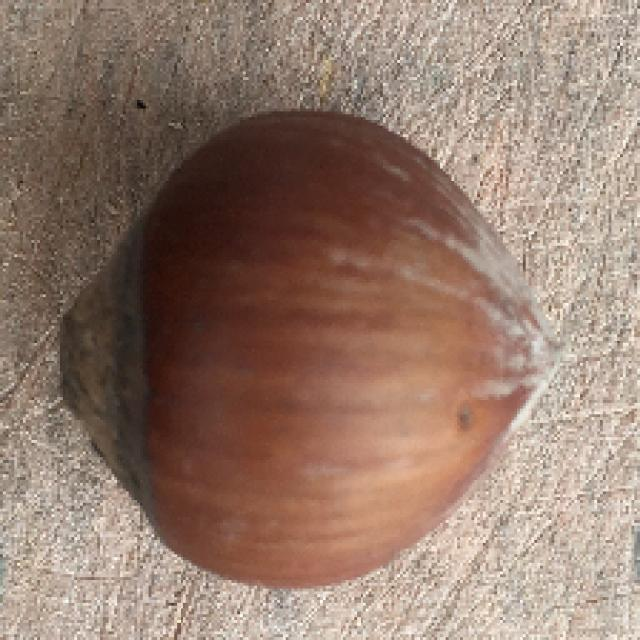qualityHazelnut: (49, 103, 568, 598)
